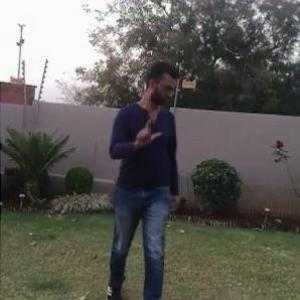land_hand: (135, 108, 165, 144)
